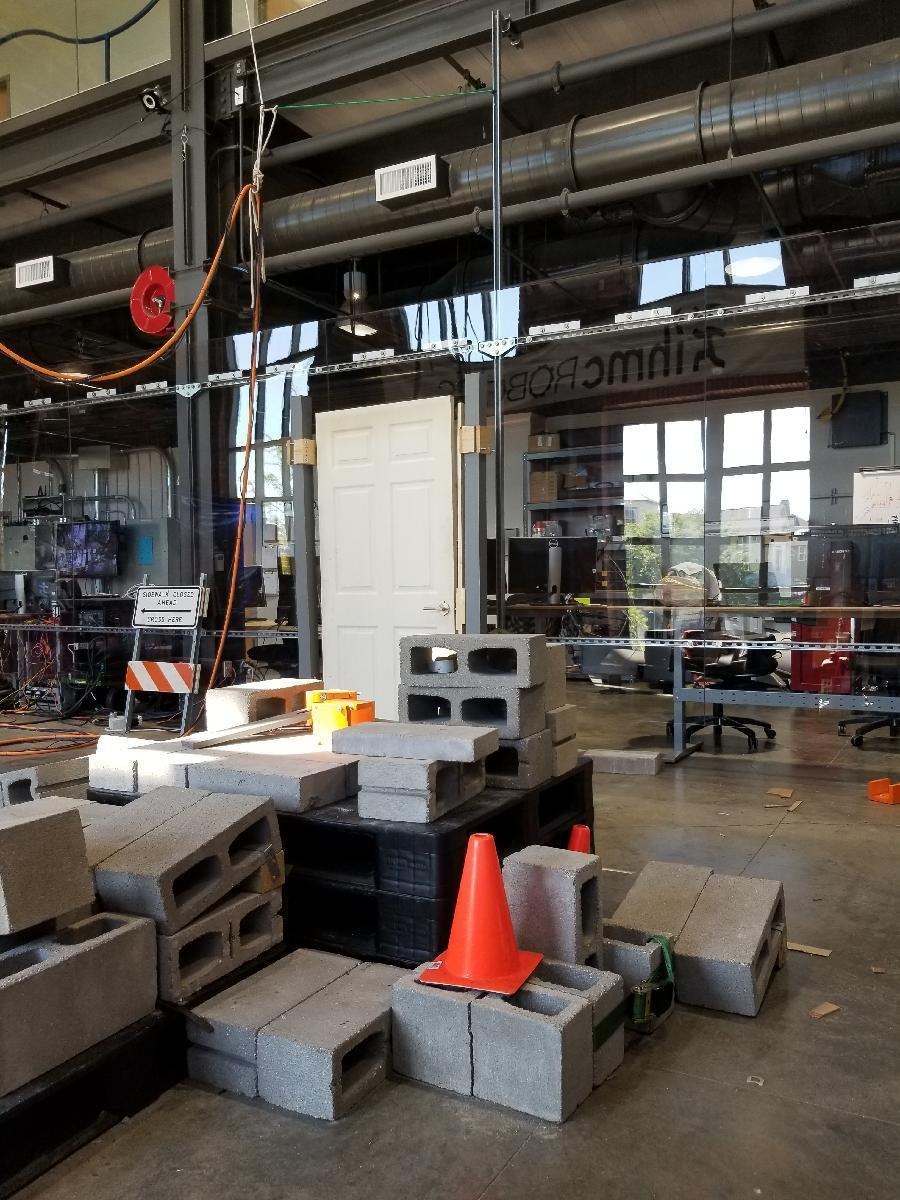door: (314, 410, 462, 747)
handle: (424, 601, 458, 618)
